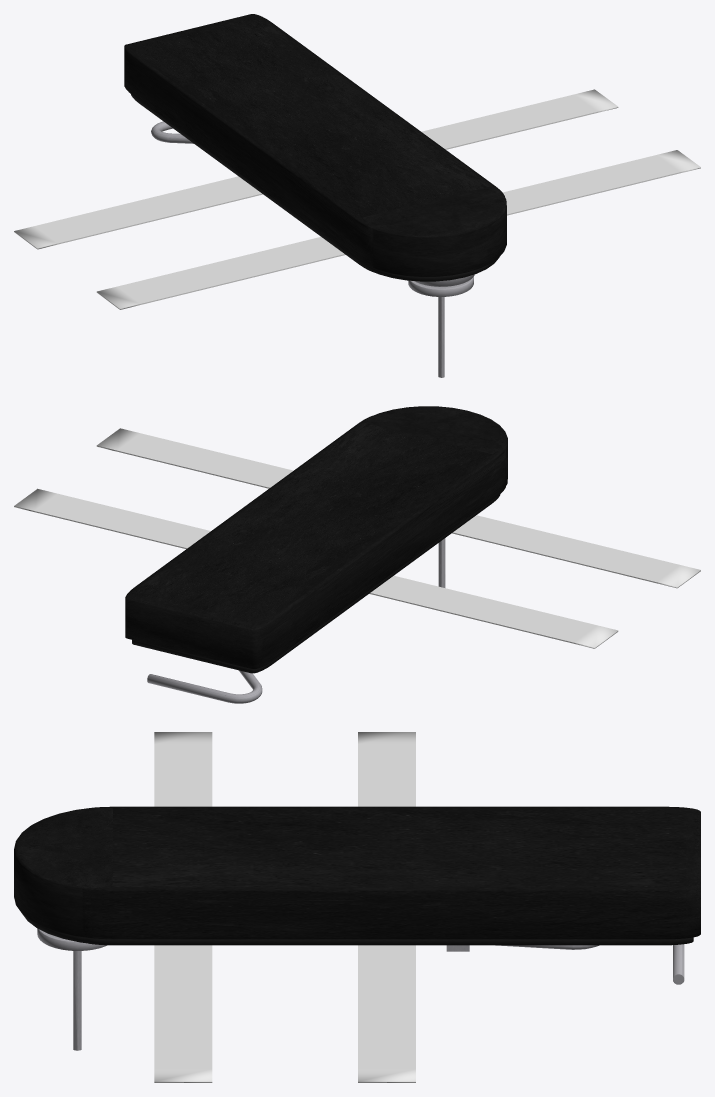
File: heavy_arm_board.fbx
3 renders of one model, top to bottom at view 1: azimuth 30°, elevation 25°; view 2: azimuth 150°, elevation 25°; view 3: azimuth 270°, elevation 25°, orthographic. The views are drawn at different scales.
Parts seen in each view (by area): view 1: pad, strap_1, strap_2, pad_support, bearing_lower, ball_hinge; view 2: pad, strap_1, strap_2, pad_support, curved_pipe; view 3: pad, strap_1, strap_2, pad_support, ball_hinge, curved_pipe, bearing_lower.
Part boxes in pixels (left/top/right/bottom): pad: left=124, top=14, right=506, bottom=276; strap_1: left=96, top=150, right=700, bottom=309; strap_2: left=14, top=89, right=618, bottom=249; pad_support: left=131, top=94, right=499, bottom=281; bearing_lower: left=408, top=276, right=473, bottom=296; ball_hinge: left=438, top=297, right=444, bottom=377; pad: left=125, top=406, right=507, bottom=669; strap_1: left=96, top=428, right=700, bottom=588; strap_2: left=14, top=488, right=618, bottom=648; pad_support: left=132, top=494, right=500, bottom=673; curved_pipe: left=147, top=670, right=262, bottom=703; pad: left=14, top=806, right=700, bottom=939; strap_1: left=154, top=732, right=212, bottom=1082; strap_2: left=358, top=732, right=415, bottom=1082; pad_support: left=22, top=914, right=693, bottom=945; ball_hinge: left=73, top=951, right=81, bottom=1050; curved_pipe: left=495, top=944, right=684, bottom=984; bearing_lower: left=37, top=928, right=106, bottom=950.
Size of the model in its own units: 0.639 by 0.1725 by 0.5311.
Materials: 4 (3 with a texture image).
